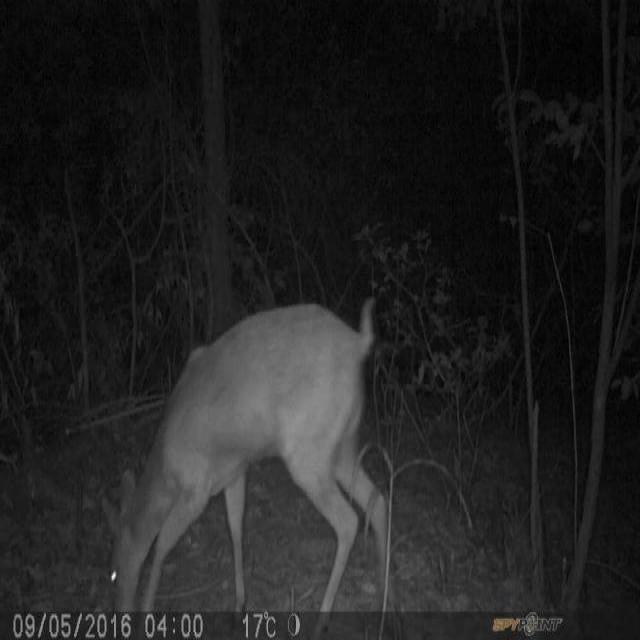deer: (102, 290, 390, 606)
